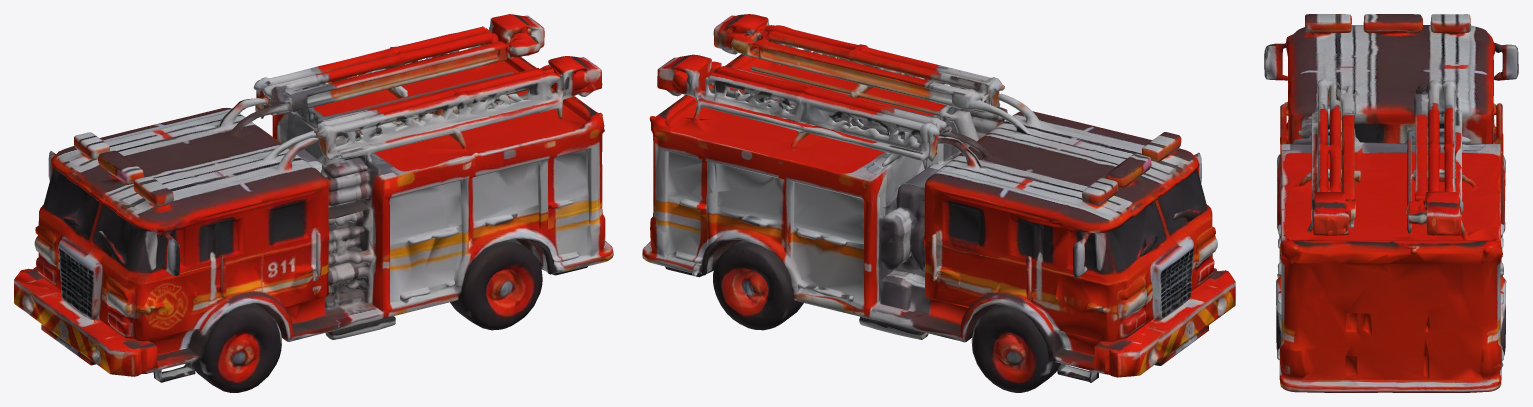
The model's file is camion.glb.
3 views of the same model, side by side, from view 1: azimuth 30°, elevation 25°; view 2: azimuth 150°, elevation 25°; view 3: azimuth 270°, elevation 25° (orthographic).
Parts seen in each view (by area): view 1: tripo_node_10e92622-c7c4-4eaa-bada-e4a82297640c; view 2: tripo_node_10e92622-c7c4-4eaa-bada-e4a82297640c; view 3: tripo_node_10e92622-c7c4-4eaa-bada-e4a82297640c.
Part boxes in pixels (x1,y1,x2,y2): tripo_node_10e92622-c7c4-4eaa-bada-e4a82297640c: (14,14,613,392); tripo_node_10e92622-c7c4-4eaa-bada-e4a82297640c: (642,14,1235,392); tripo_node_10e92622-c7c4-4eaa-bada-e4a82297640c: (1264,14,1518,392).
Size of the model in its own units: 0.9998 by 0.435 by 0.4411.
Materials: 1 (1 with a texture image).
